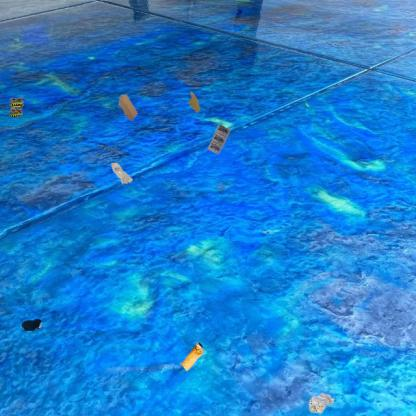dirty: (179, 338, 206, 372), (207, 124, 231, 154), (307, 391, 335, 415), (117, 93, 140, 122), (110, 160, 132, 186), (9, 97, 24, 117)
liquid: (187, 91, 202, 113), (22, 318, 42, 331)
